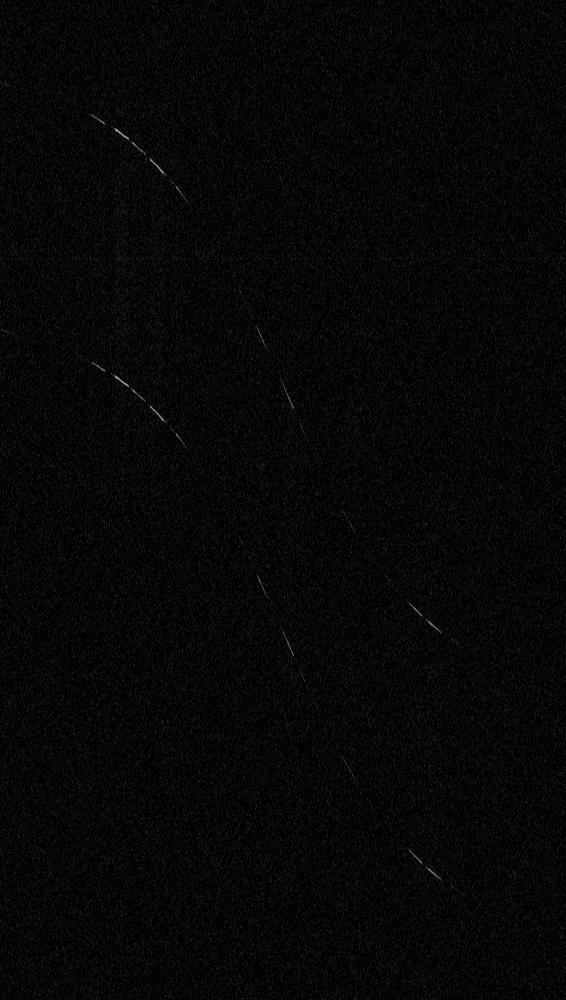signal: (0, 0, 565, 999)
